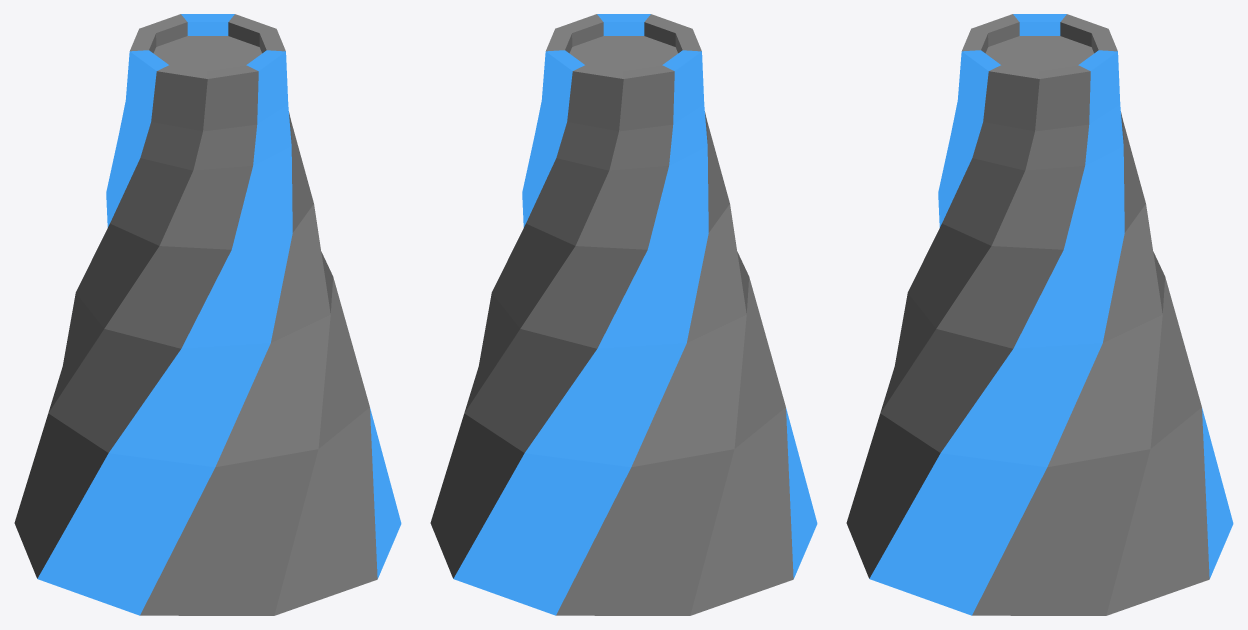
The model's file is iceWizTorre.glb.
3 views of the same model, side by side, from view 1: azimuth 30°, elevation 25°; view 2: azimuth 150°, elevation 25°; view 3: azimuth 270°, elevation 25° (orthographic).
Parts seen in each view (by area): view 1: Cylinder; view 2: Cylinder; view 3: Cylinder.
Boxes of the visible parts, bbox=[...] form: Cylinder: bbox=[14, 14, 401, 615]; Cylinder: bbox=[430, 14, 817, 615]; Cylinder: bbox=[846, 14, 1233, 615].
Size of the model in its own units: 1.79 by 2.55 by 1.82.
